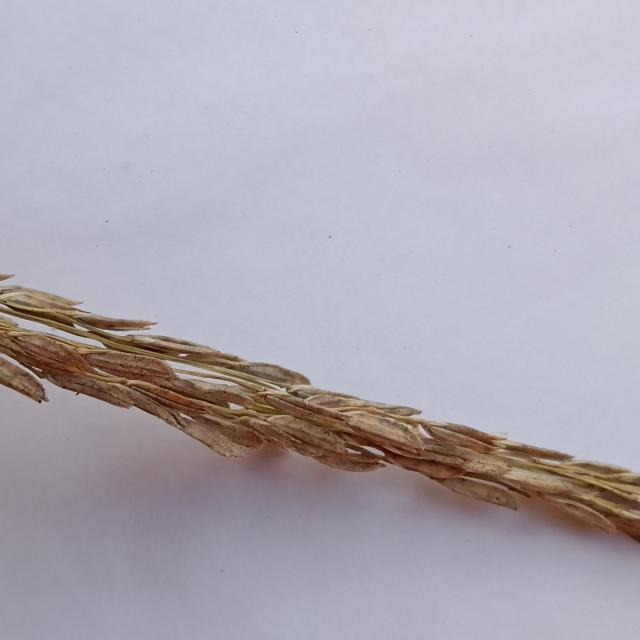Neck_Blast: (0, 268, 640, 553)
